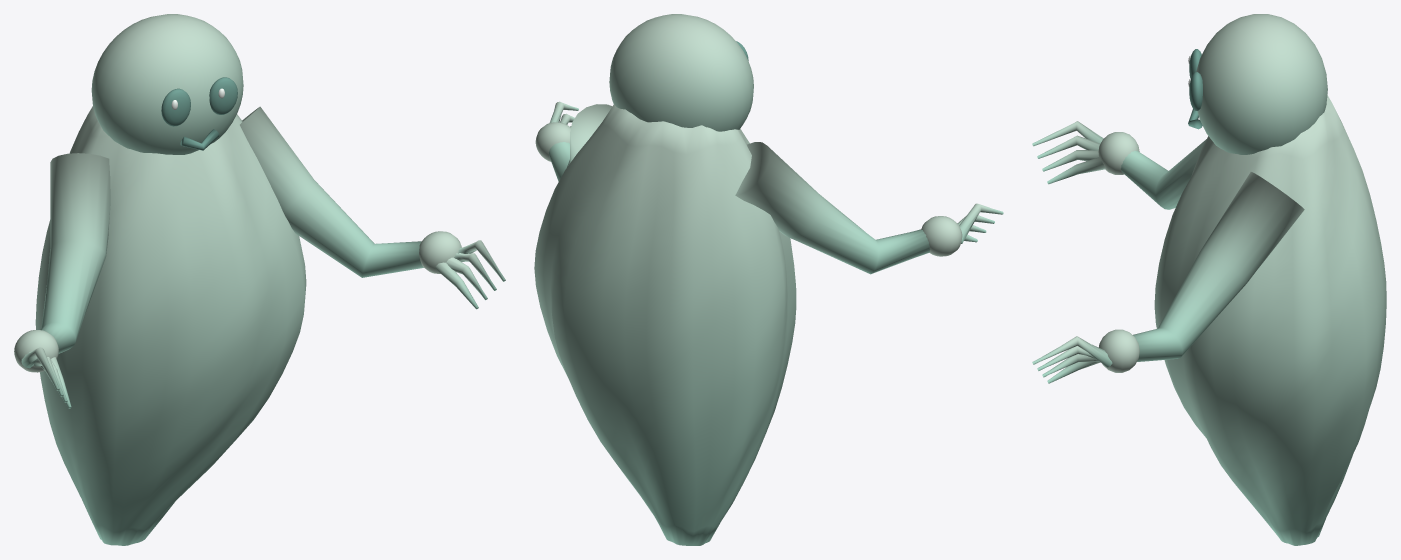
Rendered from graaigeest.glb.
The picture shows the model from 3 angles, left to right: view 1: azimuth 30°, elevation 25°; view 2: azimuth 150°, elevation 25°; view 3: azimuth 270°, elevation 25°; orthographic projection. The views are drawn at different scales.
Parts seen in each view (by area): view 1: ghost__000, ghost__001, ghost__002, ghost__008, ghost__009, ghost__003, ghost_eye__014, ghost_eye__016; view 2: ghost__000, ghost__001, ghost__002, ghost__008, ghost__003, ghost__009; view 3: ghost__000, ghost__001, ghost__008, ghost__002, ghost__009, ghost__003, ghost__013, ghost__007, ghost__004, ghost__006, ghost__005, ghost_eye__016.
Part boxes in pixels (<box>): ghost__000: <box>35,106,306,545</box>; ghost__001: <box>91,14,243,154</box>; ghost__002: <box>40,153,110,353</box>; ghost__008: <box>240,106,423,277</box>; ghost__009: <box>419,231,461,273</box>; ghost__003: <box>14,330,58,372</box>; ghost_eye__014: <box>161,88,190,126</box>; ghost_eye__016: <box>209,77,237,114</box>; ghost__000: <box>534,104,796,545</box>; ghost__001: <box>609,14,753,131</box>; ghost__002: <box>735,142,930,274</box>; ghost__008: <box>549,104,612,181</box>; ghost__003: <box>921,216,962,256</box>; ghost__009: <box>535,122,570,161</box>; ghost__000: <box>1154,95,1386,545</box>; ghost__001: <box>1196,14,1327,154</box>; ghost__008: <box>1133,172,1304,361</box>; ghost__002: <box>1121,139,1206,209</box>; ghost__009: <box>1098,329,1139,372</box>; ghost__003: <box>1098,132,1139,174</box>; ghost__013: <box>1032,336,1112,367</box>; ghost__007: <box>1032,121,1103,146</box>; ghost__004: <box>1047,157,1105,184</box>; ghost__006: <box>1037,135,1100,158</box>; ghost__005: <box>1042,150,1098,171</box>; ghost_eye__016: <box>1189,72,1202,110</box>.
Size of the model in its own units: 1.26 by 1.4 by 0.8553.
